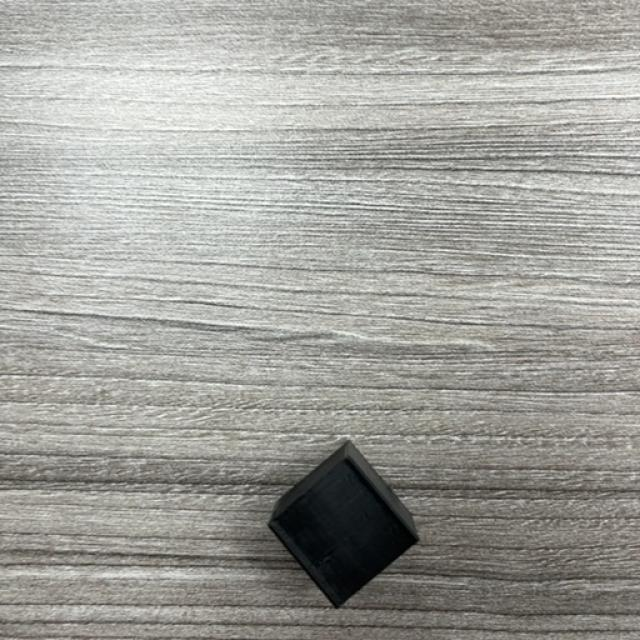Negro: (266, 440, 421, 610)
